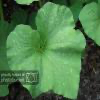Squash Powdery mildew leaf: (6, 1, 87, 99)
